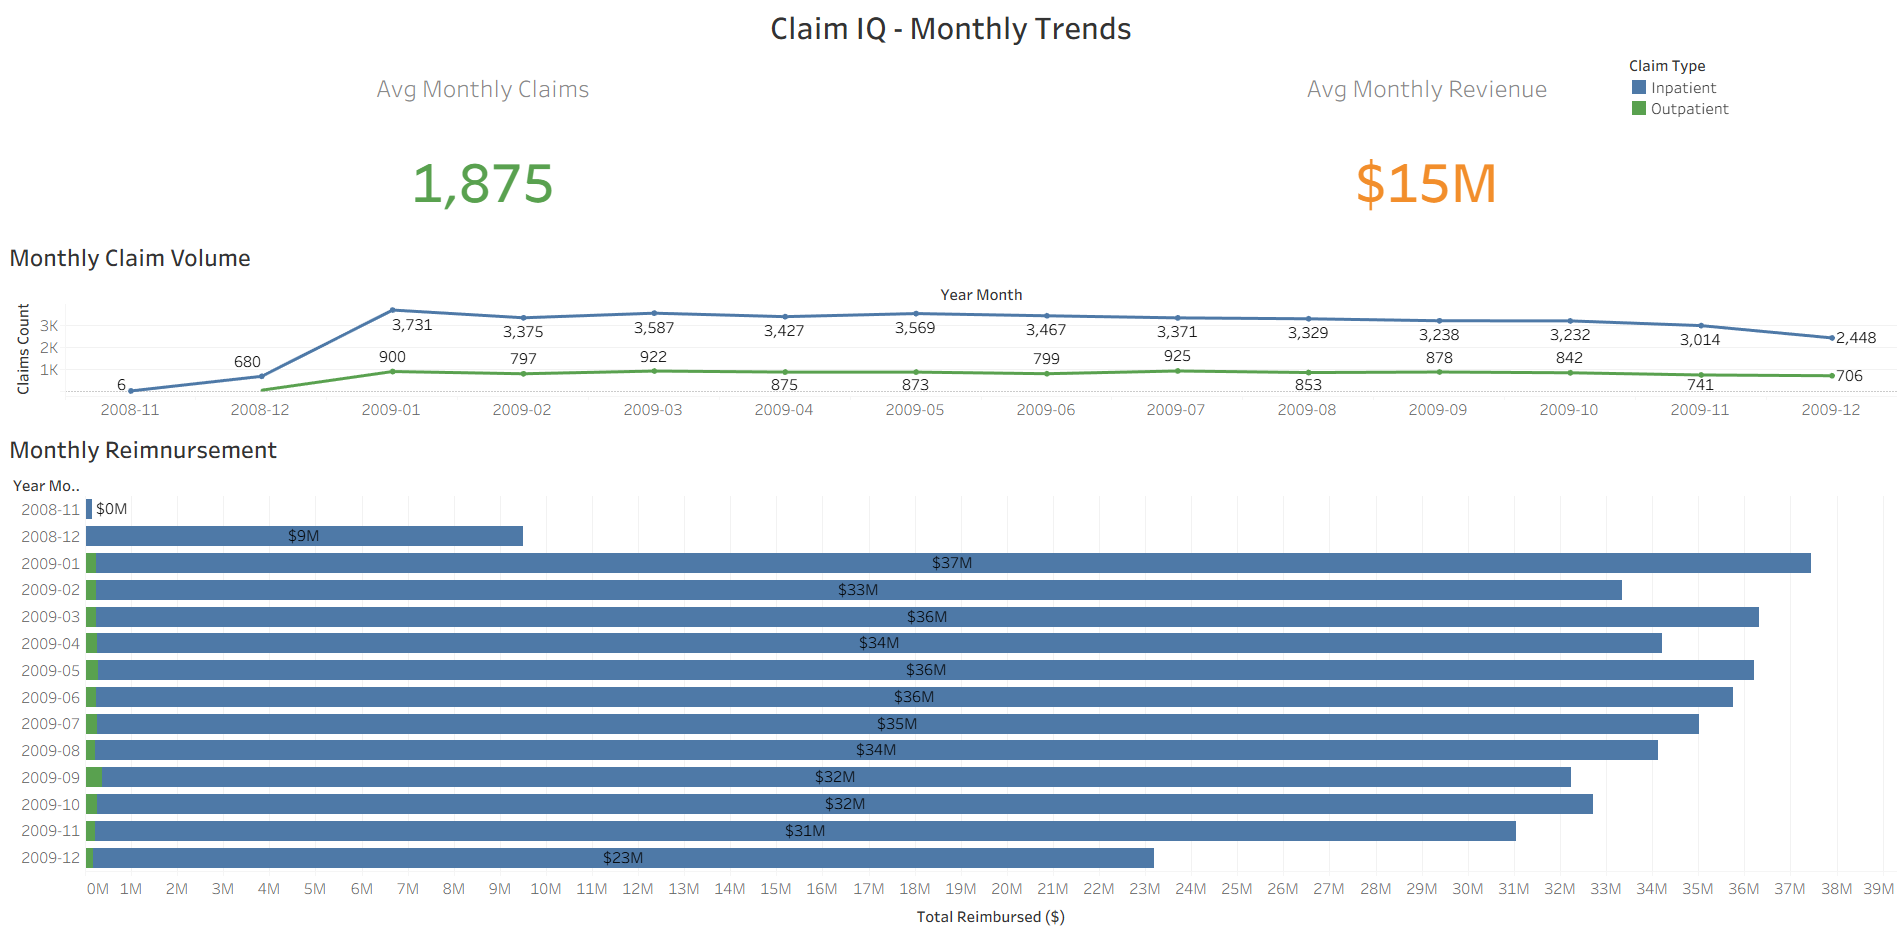

The page's visual inventory and layout, read from the dashboard file:
{"tool":"tableau","page":{"name":"Dashboard 4 - Monthly Trends","canvas":[1000,1000],"units":"permille","ordinal":3},"visuals":[{"type":"title","box":[4.8,9.4,990.3,57.6]},{"type":"legend","title":"Trends - Monthly Claims","param":"[federated.0pmp9zf1vis4ee1ci2dup0ko7pk9].[none:ClaimType:nk]","box":[853.4,63.5,84.5,75.2]},{"type":"worksheet","title":"KPI - Avg Monthly Claims","mark":"Automatic","box":[10.3,72.9,491.9,196.2]},{"type":"worksheet","title":"KPI - Avg Monthly Revenue","mark":"Automatic","box":[502.1,72.9,491.9,196.2]},{"type":"worksheet","title":"Trends - Monthly Claims","mark":"Line","rows":["Total_Claims"],"cols":["Year_Month"],"box":[5.4,250.3,989.7,225.7]},{"type":"worksheet","title":"Trends - Monthly Revenue","mark":"Bar","rows":["Year_Month"],"cols":["Total_Reimbursed"],"box":[5.4,476,989.7,513.4]}]}

Visuals, with their boxes on the dashboard's canvas, which has no fixed pixel size, in thousandths of its width and height (x1, y1, x2, y2). These are canvas units, not pixel positions in the 1898x941 screenshot, which may show the page scaled, cropped or inside an application window:
title: [5,9,995,67]
"Trends - Monthly Claims" legend: [853,64,938,139]
"KPI - Avg Monthly Claims" worksheet: [10,73,502,269]
"KPI - Avg Monthly Revenue" worksheet: [502,73,994,269]
"Trends - Monthly Claims" worksheet (Line marks): [5,250,995,476]
"Trends - Monthly Revenue" worksheet (Bar marks): [5,476,995,989]
